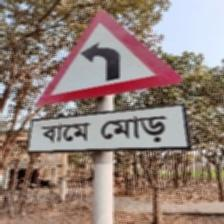Left-Turn: (29, 5, 188, 156)
